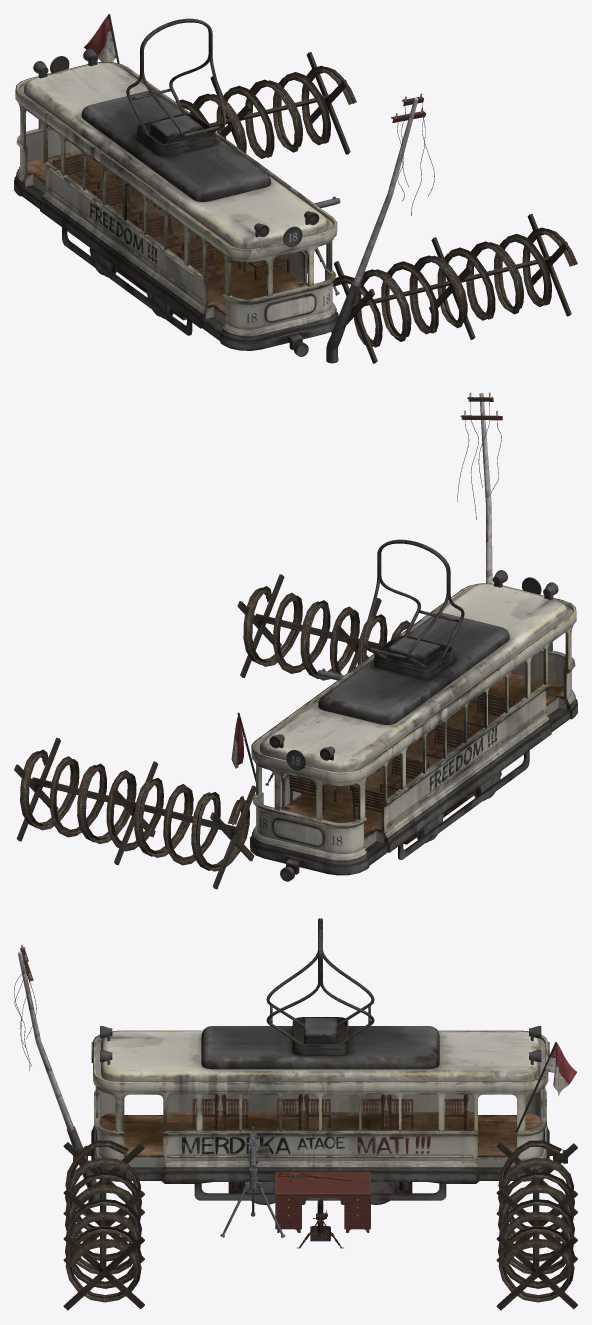
Rendered from ww_ii_weapons_pack_indonesian_version (1).glb.
The picture shows the model from 3 angles, top to bottom: view 1: azimuth 30°, elevation 25°; view 2: azimuth 150°, elevation 25°; view 3: azimuth 270°, elevation 25°; orthographic projection. The views are drawn at different scales.
Visible parts, largest first — view 1: SM_Tram_0, Barricade_wire_4m_Low_3, Barricade_wire_4m_Low.001_4, SM_Electricpole_C_2, Flag_9; view 2: SM_Tram_0, Barricade_wire_4m_Low.001_4, Barricade_wire_4m_Low_3, SM_Electricpole_C_2; view 3: SM_Tram_0, Barricade_wire_4m_Low.001_4, Barricade_wire_4m_Low_3, SM_Desk_5, SM_Electricpole_C_2, AA_Base_Low_1, Flag_9, SM_Mortar60mm.001_8.
Boxes of the visible parts, x1,y1,x2,y2 form: SM_Tram_0: (14,18,338,356); Barricade_wire_4m_Low_3: (331,214,577,363); Barricade_wire_4m_Low.001_4: (175,52,356,158); SM_Electricpole_C_2: (326,93,434,363); Flag_9: (84,15,115,61); SM_Tram_0: (250,539,577,881); Barricade_wire_4m_Low.001_4: (14,737,255,889); Barricade_wire_4m_Low_3: (237,574,410,680); SM_Electricpole_C_2: (457,392,502,583); SM_Tram_0: (73,918,567,1204); Barricade_wire_4m_Low.001_4: (496,1140,577,1310); Barricade_wire_4m_Low_3: (63,1140,144,1310); SM_Desk_5: (275,1172,370,1232); SM_Electricpole_C_2: (14,944,99,1202); AA_Base_Low_1: (220,1127,285,1237); Flag_9: (545,1043,576,1096); SM_Mortar60mm.001_8: (297,1200,343,1248).
Bounding box in the file's own units: 6.75 × 5.53 × 10.2.
Materials: 10 (10 with a texture image).
